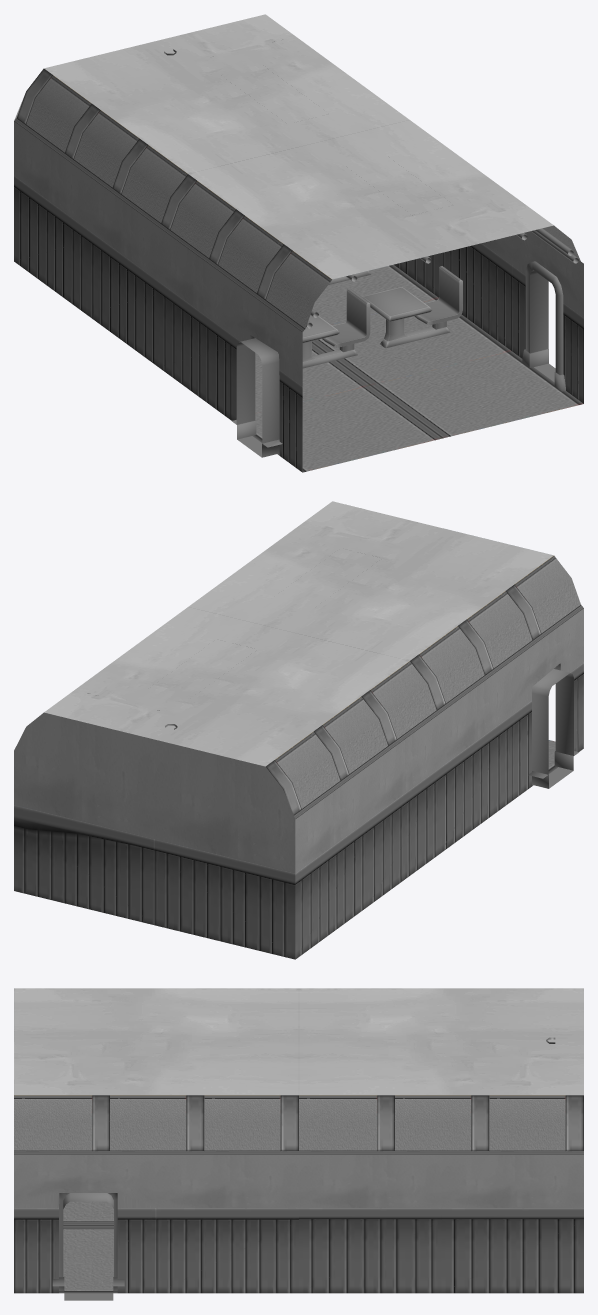
Rendered from MSH_Class_room_L2_R1_optimized.fbx.
3 views of the same model, one above another, from view 1: azimuth 30°, elevation 25°; view 2: azimuth 150°, elevation 25°; view 3: azimuth 270°, elevation 25° (orthographic).
Visible parts, largest first — view 1: lightmap1, lightmap0, lightmap-1; view 2: lightmap1, lightmap-1; view 3: lightmap1, lightmap-1.
Boxes of the visible parts, x1,y1,x2,y2 form: lightmap1: (14, 14, 583, 472); lightmap0: (164, 39, 578, 368); lightmap-1: (236, 270, 555, 457); lightmap1: (14, 501, 583, 959); lightmap-1: (532, 669, 573, 788); lightmap1: (14, 988, 583, 1293); lightmap-1: (63, 1193, 113, 1300).
Bounding box in the file's own units: 10.3 × 5.92 × 16.51.
Materials: 2 (2 with a texture image).
